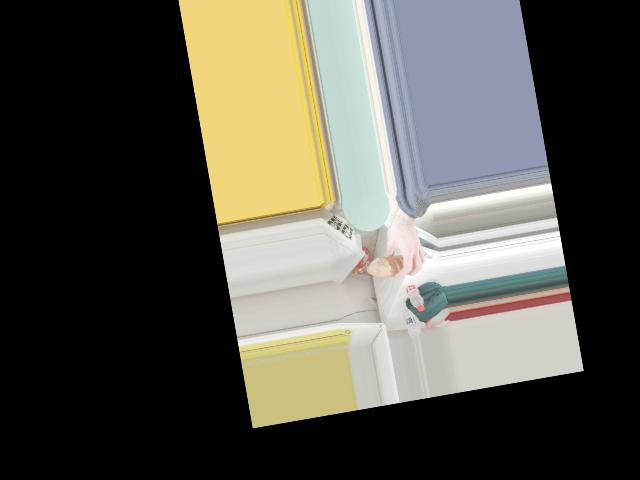sweet_potato: (373, 253, 408, 279)
